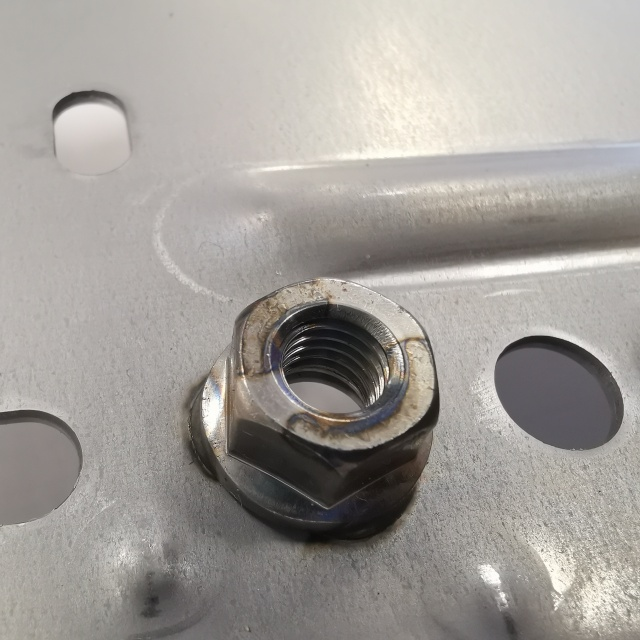dog: (183, 271, 444, 544)
